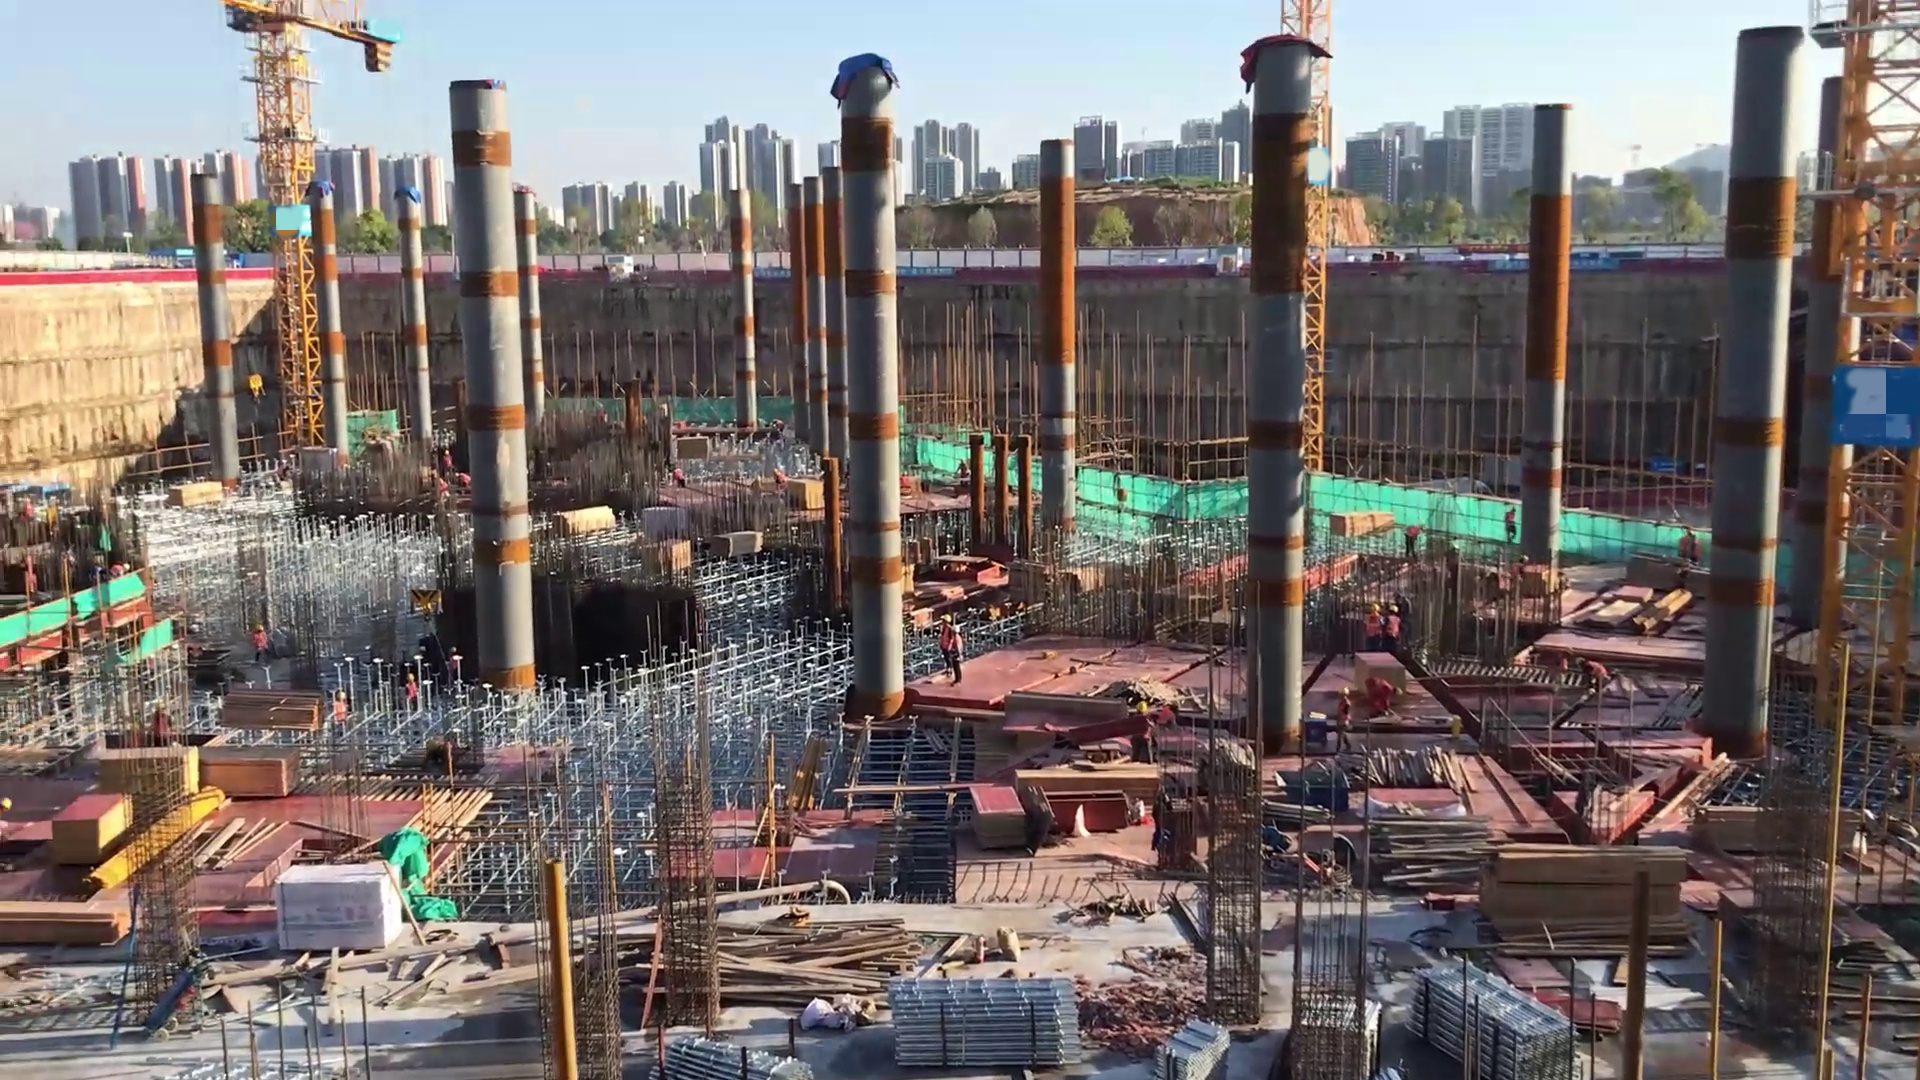board: (51, 786, 134, 876), (100, 740, 200, 813), (1522, 990, 1625, 1042), (966, 779, 1030, 851), (787, 478, 827, 508)
helmet: (1135, 702, 1150, 720), (333, 688, 348, 706), (1338, 685, 1350, 700), (254, 621, 272, 632), (1576, 653, 1586, 668), (405, 671, 417, 683), (1170, 699, 1182, 711), (1390, 604, 1400, 617), (1369, 603, 1380, 616), (941, 613, 951, 628), (1393, 683, 1402, 698), (121, 562, 131, 573), (953, 626, 961, 638), (444, 449, 449, 459)
hook: (1279, 767, 1359, 810), (247, 371, 270, 409)
person: (1577, 654, 1617, 704), (1364, 677, 1404, 722), (1674, 523, 1698, 589), (1131, 699, 1155, 766), (401, 667, 424, 726), (1155, 692, 1177, 752), (1365, 600, 1384, 656), (1336, 686, 1352, 754), (330, 689, 350, 743), (1384, 602, 1405, 654), (950, 622, 964, 690), (1404, 521, 1427, 565), (252, 621, 271, 670), (939, 610, 953, 676), (445, 642, 462, 698), (667, 462, 693, 493), (1503, 504, 1520, 547), (442, 446, 456, 485), (109, 560, 132, 583), (957, 456, 971, 493), (454, 468, 473, 490), (773, 466, 788, 491)
scaffold: (1395, 955, 1581, 1080), (884, 967, 1097, 1070), (638, 1037, 822, 1080), (1161, 1006, 1222, 1080)
slogan: (1494, 259, 1616, 270), (896, 264, 951, 277), (754, 263, 795, 279)
vest: (1338, 700, 1351, 733), (1367, 614, 1382, 639), (1386, 615, 1399, 640)
wood: (1481, 841, 1694, 964), (717, 909, 917, 1008), (1364, 814, 1501, 890), (1690, 806, 1860, 861), (1011, 766, 1163, 810), (199, 741, 304, 800), (219, 689, 323, 740), (543, 502, 619, 542), (699, 526, 772, 562), (1323, 509, 1401, 542), (175, 469, 231, 512)
